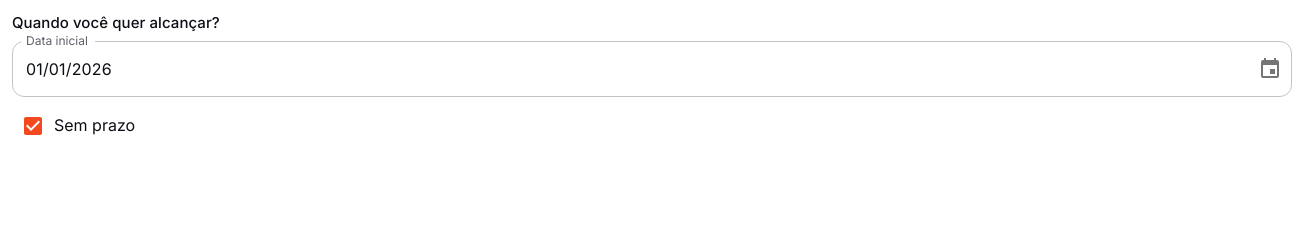
Test case: TimelineStep › reveals the deadline field once "Sem prazo" is unchecked
Click the checkbox labelled "Sem prazo" at [78, 126], box [21,114,135,138]
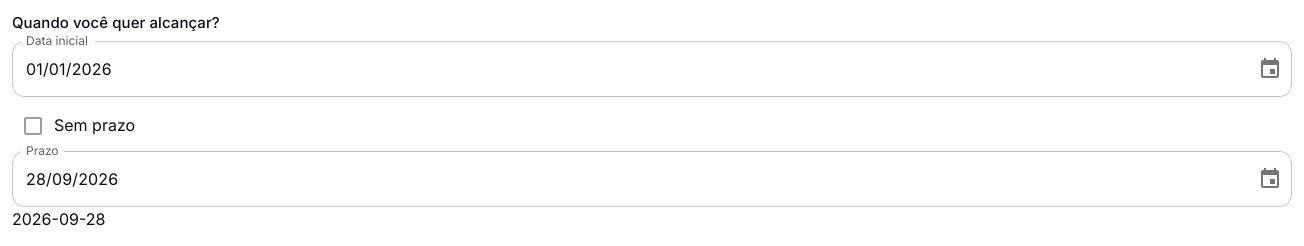
Expected: the text with test id "target-date" does not show "", [12,209,105,229]
Result: the element named "Prazo" is shown at [12,151,1292,207]
